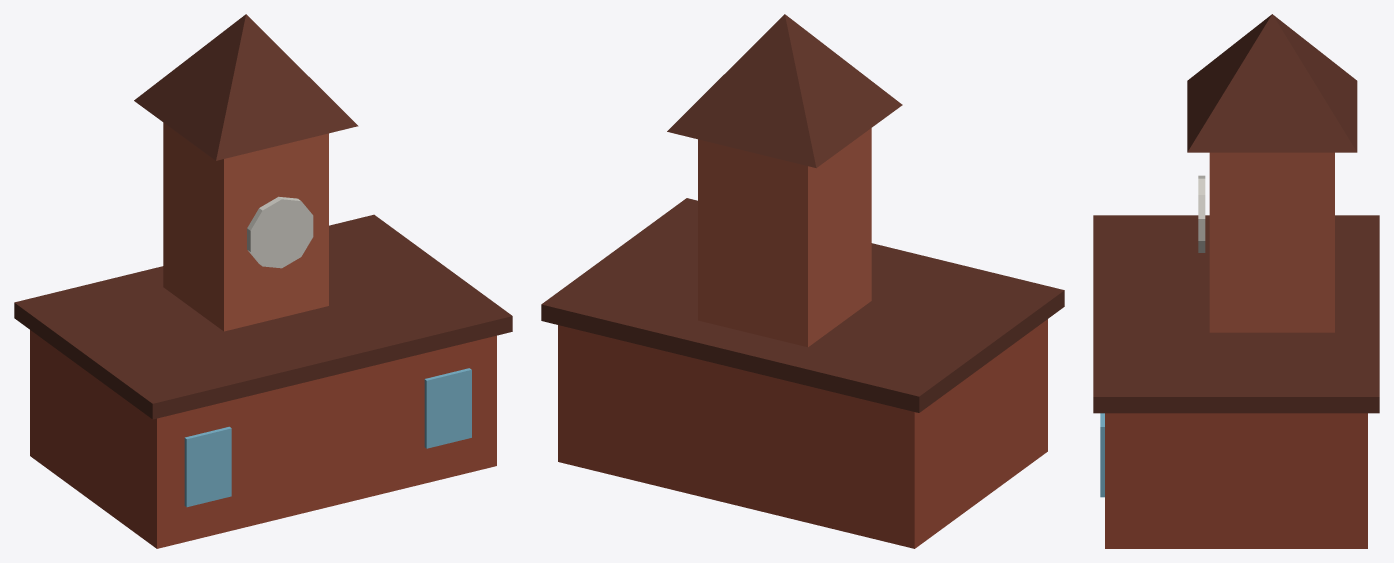
File: university.glb
3 views of the same model, side by side, from view 1: azimuth 30°, elevation 25°; view 2: azimuth 150°, elevation 25°; view 3: azimuth 270°, elevation 25° (orthographic). The views are drawn at different scales.
Visible parts, largest first — view 1: university; view 2: university; view 3: university.
Boxes of the visible parts, box(x1,y1,x2,y2) form: university: box(14, 14, 512, 548); university: box(541, 14, 1064, 548); university: box(1093, 14, 1379, 548).
Bounding box in the file's own units: 0.36 × 0.415 × 0.24.
